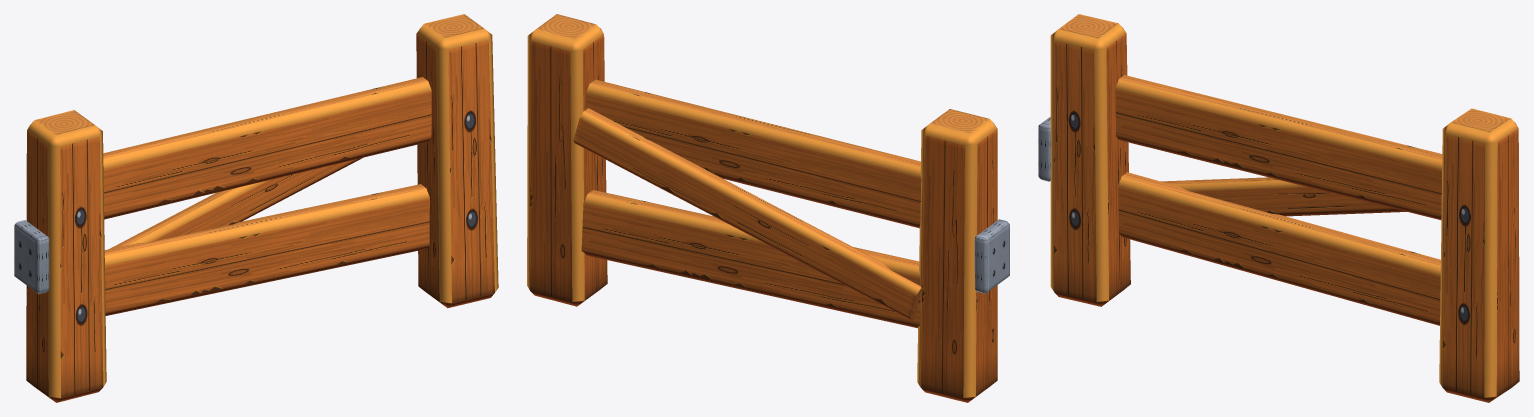
The model's file is Fence_Straight2.fbx.
The picture shows the model from 3 angles, left to right: view 1: azimuth 30°, elevation 25°; view 2: azimuth 150°, elevation 25°; view 3: azimuth 330°, elevation 25°; orthographic projection.
Visible parts, largest first — view 1: Fence_Straight2_Body; view 2: Fence_Straight2_Body; view 3: Fence_Straight2_Body.
Part boxes in pixels (left/top/right/bottom): Fence_Straight2_Body: left=14, top=14, right=498, bottom=402; Fence_Straight2_Body: left=527, top=14, right=1009, bottom=402; Fence_Straight2_Body: left=1038, top=14, right=1519, bottom=402.
Size of the model in its own units: 2.05 by 1.14 by 0.2674.
1 material, 1 textured.
